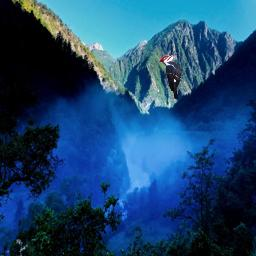Woodpecker: (158, 53, 184, 99)
